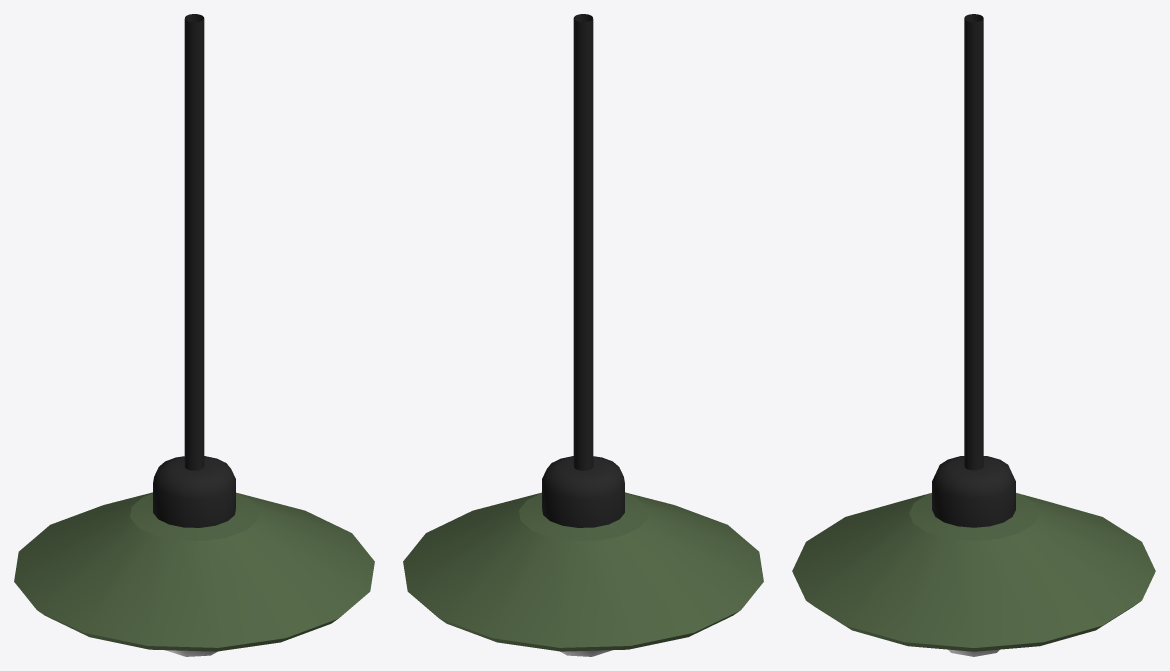
The model's file is OverLamp.fbx.
The picture shows the model from 3 angles, left to right: view 1: azimuth 30°, elevation 25°; view 2: azimuth 150°, elevation 25°; view 3: azimuth 270°, elevation 25°; orthographic projection.
Visible parts, largest first — view 1: Lamp; view 2: Lamp; view 3: Lamp.
Part boxes in pixels (x1,y1,x2,y2): Lamp: (14, 14, 374, 656); Lamp: (403, 14, 763, 656); Lamp: (792, 14, 1155, 656).
Size of the model in its own units: 200 by 387 by 200.
